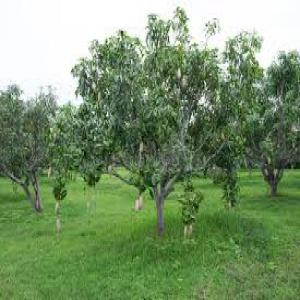Tree: (66, 3, 260, 233)
